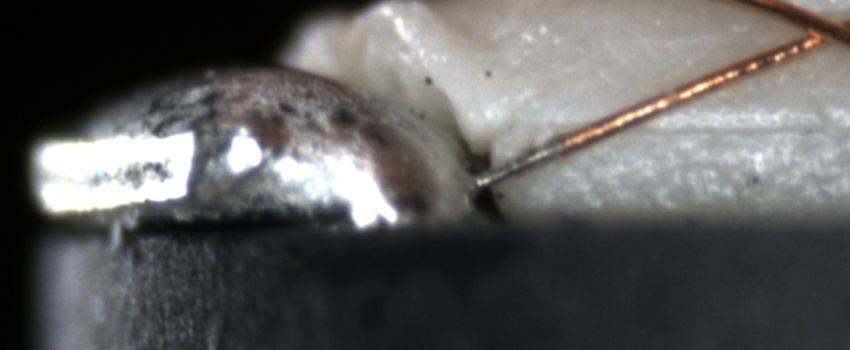CL: (775, 5, 847, 55)
DL: (546, 99, 850, 158)
TS: (470, 137, 567, 190)
TTCW: (471, 116, 617, 188)
